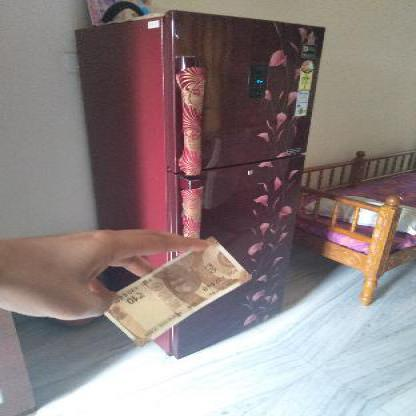New10Front: (103, 234, 250, 346)
